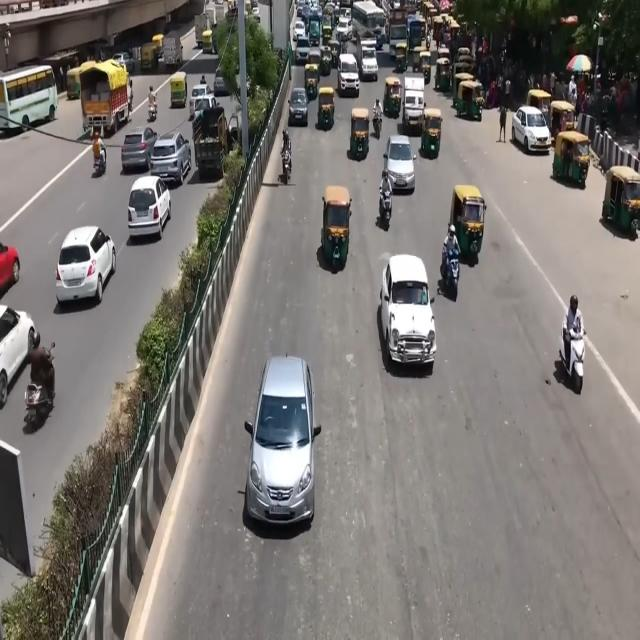auto: (319, 186, 352, 273), (449, 185, 485, 259), (602, 166, 639, 234), (551, 130, 591, 188), (549, 99, 577, 145), (455, 76, 483, 120), (421, 106, 443, 157), (350, 107, 370, 157), (526, 88, 552, 125), (383, 76, 403, 118), (452, 60, 472, 101), (317, 86, 335, 131), (141, 37, 163, 73), (169, 72, 188, 109), (435, 55, 452, 92), (304, 62, 320, 101), (66, 66, 83, 101), (418, 50, 432, 85), (394, 40, 408, 73)
bike-auto: (23, 351, 55, 426), (560, 321, 586, 396), (440, 242, 460, 299), (378, 182, 392, 227), (371, 90, 384, 137), (93, 130, 106, 174), (281, 128, 291, 181), (148, 85, 157, 122)
